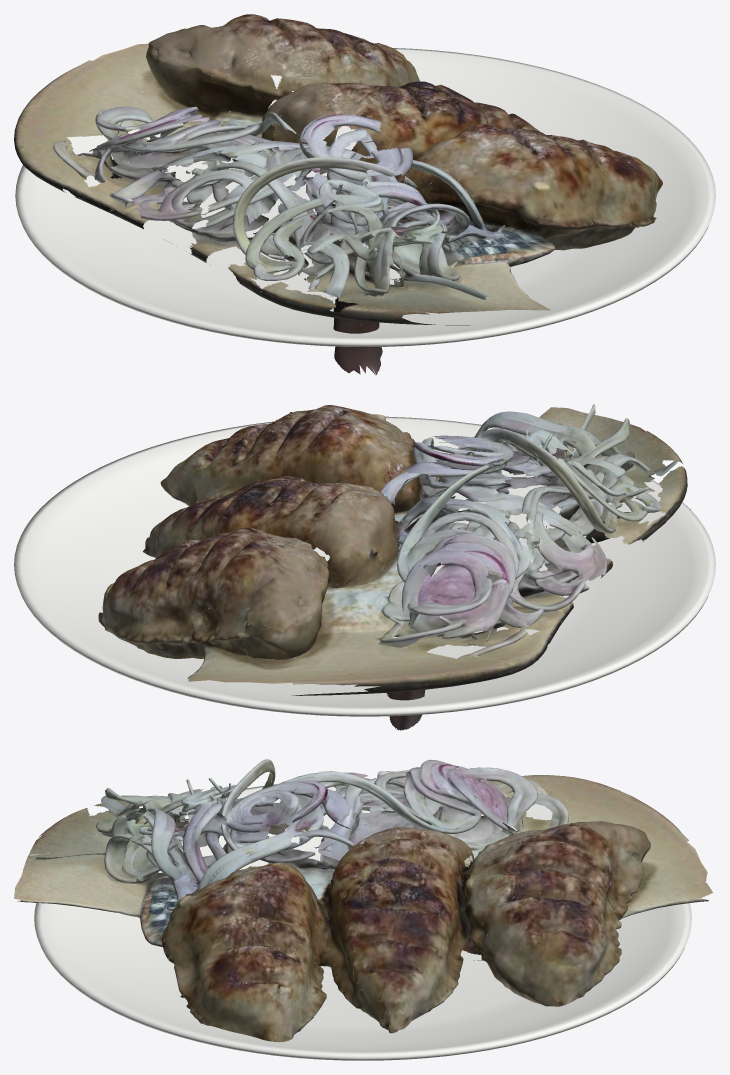
File: lyulya.glb
The picture shows the model from 3 angles, top to bottom: view 1: azimuth 30°, elevation 25°; view 2: azimuth 150°, elevation 25°; view 3: azimuth 270°, elevation 25°; orthographic projection. The views are drawn at different scales.
Parts seen in each view (by area): view 1: tripo_node_1176a2c5-85b3-4bad-99df-4a19ce7bc1e4, plate; view 2: tripo_node_1176a2c5-85b3-4bad-99df-4a19ce7bc1e4, plate; view 3: tripo_node_1176a2c5-85b3-4bad-99df-4a19ce7bc1e4, plate.
Part boxes in pixels (x1,y1,x2,y2): tripo_node_1176a2c5-85b3-4bad-99df-4a19ce7bc1e4: [14, 14, 662, 375]; plate: [15, 48, 715, 346]; tripo_node_1176a2c5-85b3-4bad-99df-4a19ce7bc1e4: [98, 404, 690, 730]; plate: [14, 416, 715, 716]; tripo_node_1176a2c5-85b3-4bad-99df-4a19ce7bc1e4: [14, 759, 712, 1055]; plate: [34, 782, 691, 1060].
Size of the model in its own units: 0.9 by 0.2217 by 0.9605.
2 materials, 1 textured.
